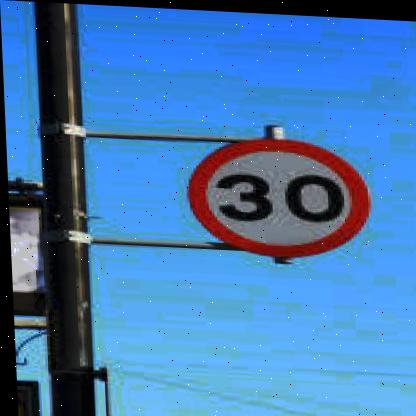Speed Limit -30-: (181, 127, 377, 264)
